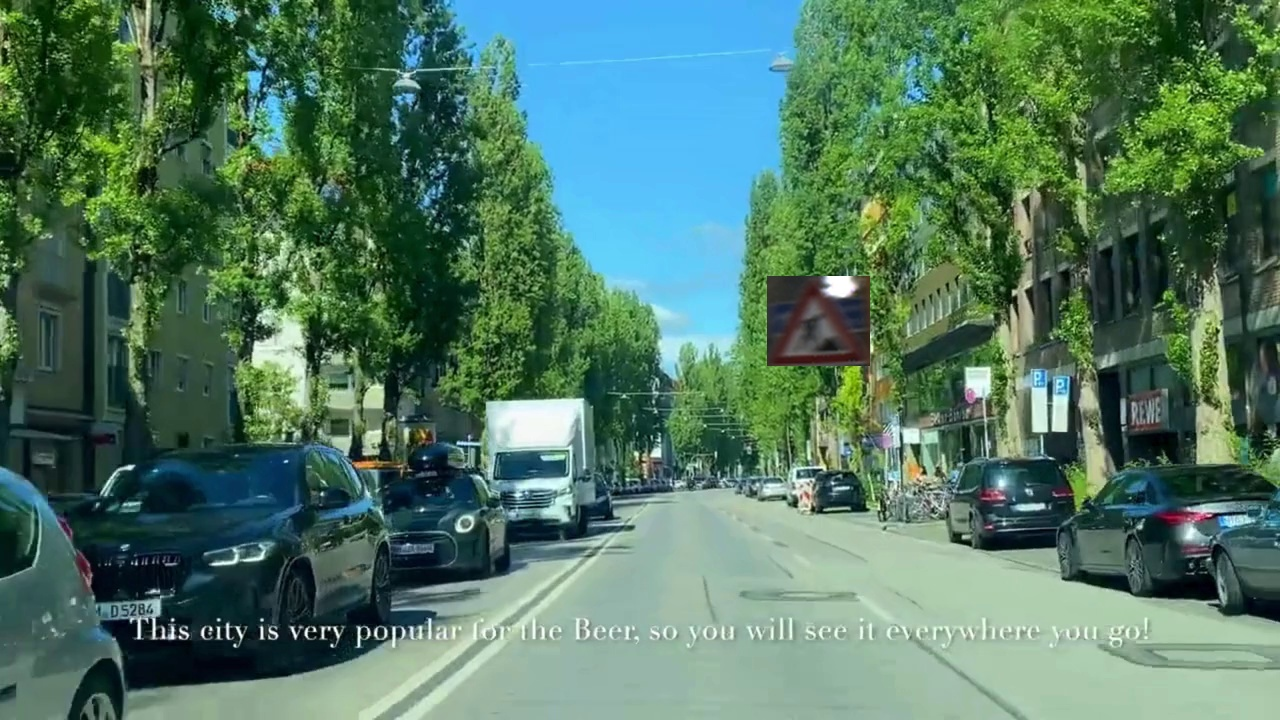Road work: (767, 276, 870, 366)
